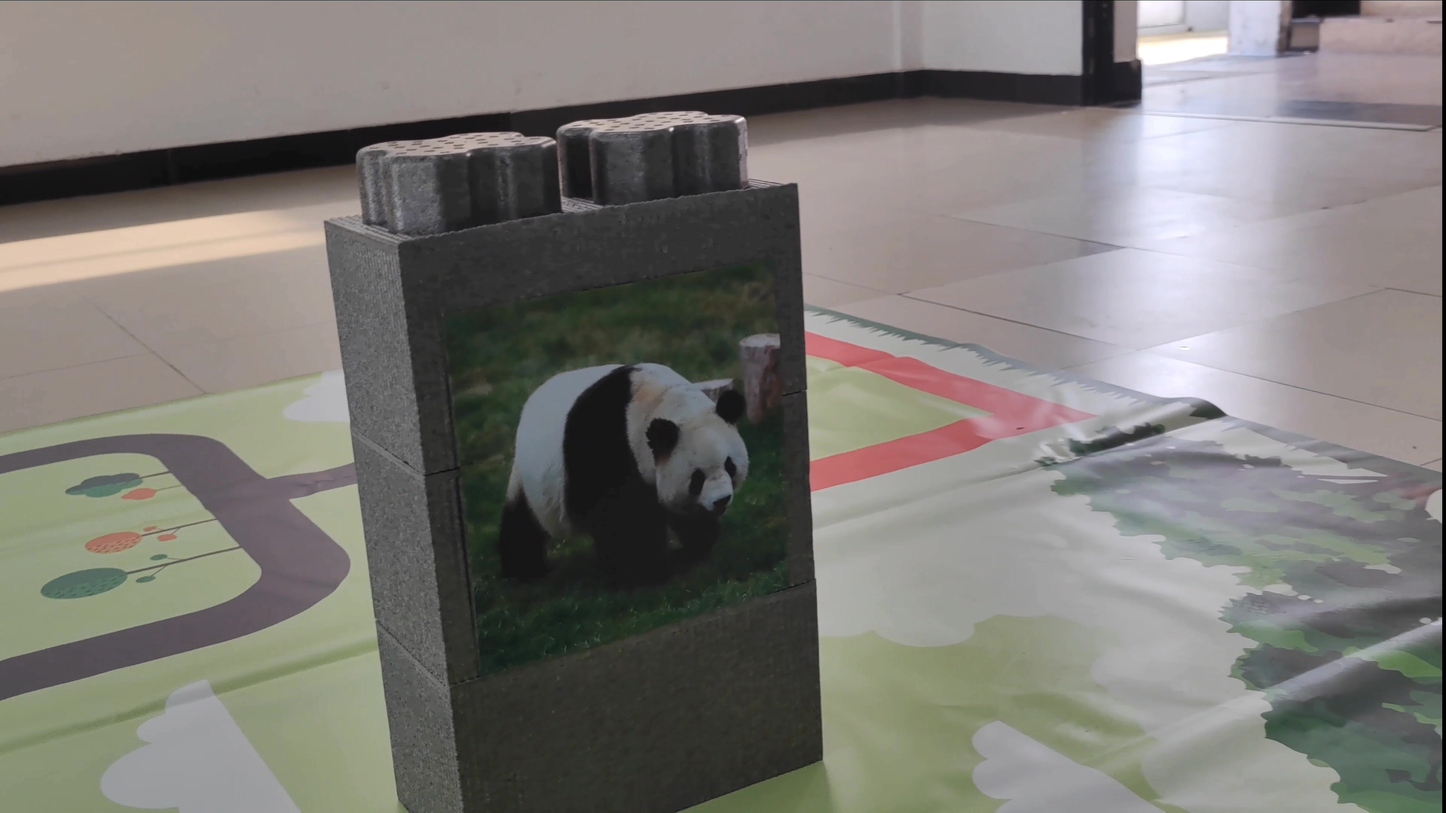panda: (483, 348, 773, 580)
